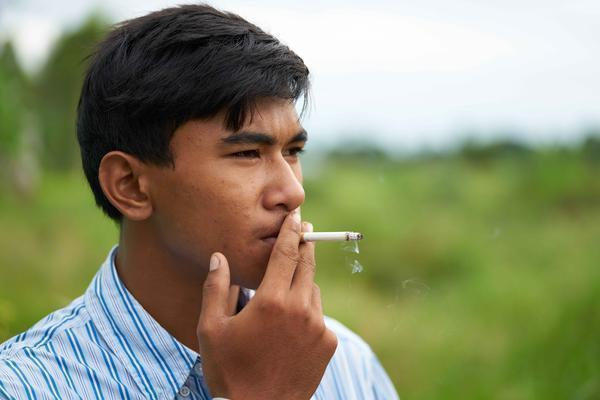smoke: (280, 231, 365, 244)
